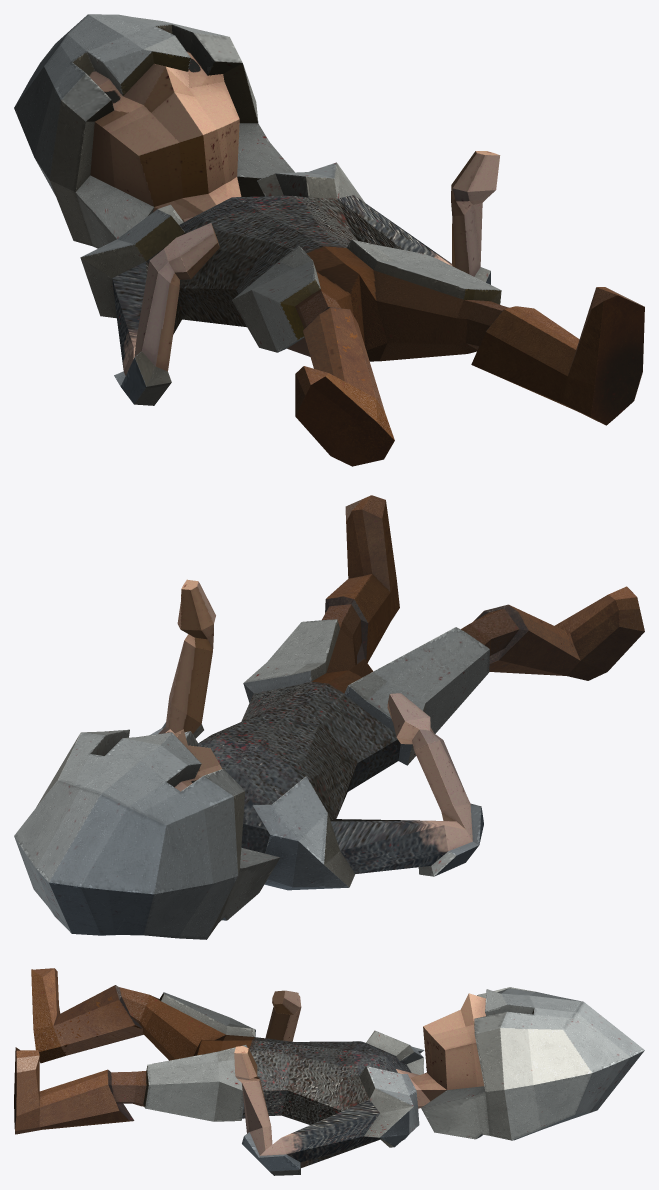
The model's file is Walk_Soldier_24.obj.
3 views of the same model, one above another, from view 1: azimuth 30°, elevation 25°; view 2: azimuth 150°, elevation 25°; view 3: azimuth 270°, elevation 25° (orthographic). The views are drawn at different scales.
Visible parts, largest first — view 1: Soldado_LowPolySTD; view 2: Soldado_LowPolySTD; view 3: Soldado_LowPolySTD.
Boxes of the visible parts, x1=… form: Soldado_LowPolySTD: x1=14, y1=14, x2=644, y2=466; Soldado_LowPolySTD: x1=14, y1=495, x2=644, y2=939; Soldado_LowPolySTD: x1=14, y1=968, x2=644, y2=1175.
Bounding box in the file's own units: 0.7223 × 0.413 × 1.6.
